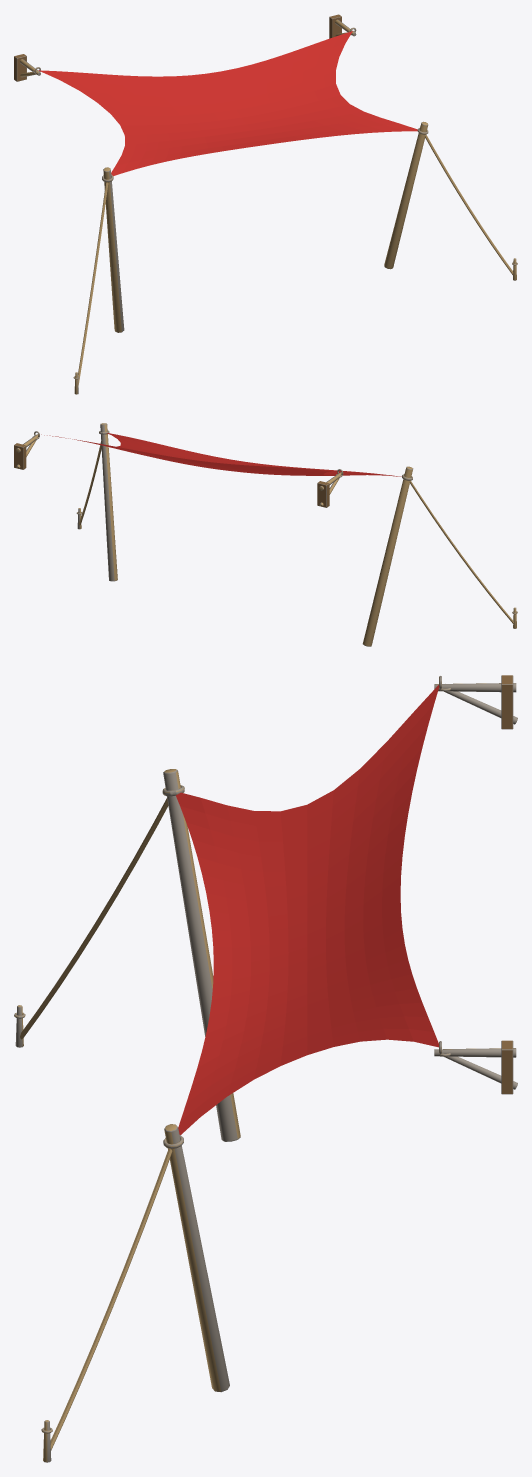
The model's file is nomad_sail_wall_strip.fbx.
3 renders of one model, top to bottom at view 1: azimuth 30°, elevation 25°; view 2: azimuth 150°, elevation 25°; view 3: azimuth 270°, elevation 25°, orthographic. The views are drawn at different scales.
Visible parts, largest first — view 1: S11_Canopy, S11_Mast1_SailRig_MastStub, S11_Mast_SailRig_MastStub, S11_Guy1, S11_Guy, S11_WallFix_SailRig_WallBracket; view 2: S11_Canopy, S11_Mast1_SailRig_MastStub, S11_Mast_SailRig_MastStub, S11_Guy1, S11_WallFix_SailRig_WallBracket, S11_WallFix1_SailRig_WallBracket; view 3: S11_Canopy, S11_Mast1_SailRig_MastStub, S11_Mast_SailRig_MastStub, S11_WallFix1_SailRig_WallBracket, S11_WallFix_SailRig_WallBracket, S11_Guy, S11_Guy1.
Part boxes in pixels (<box>): S11_Canopy: <box>38,31,417,175</box>; S11_Mast1_SailRig_MastStub: <box>102,167,124,332</box>; S11_Mast_SailRig_MastStub: <box>384,121,428,269</box>; S11_Guy1: <box>78,182,108,386</box>; S11_Guy: <box>425,134,513,274</box>; S11_WallFix_SailRig_WallBracket: <box>14,54,40,81</box>; S11_Canopy: <box>41,433,401,476</box>; S11_Mast1_SailRig_MastStub: <box>362,466,413,646</box>; S11_Mast_SailRig_MastStub: <box>99,423,117,581</box>; S11_Guy1: <box>410,480,513,623</box>; S11_WallFix_SailRig_WallBracket: <box>317,469,343,507</box>; S11_WallFix1_SailRig_WallBracket: <box>14,431,39,469</box>; S11_Canopy: <box>176,685,439,1134</box>; S11_Mast1_SailRig_MastStub: <box>162,769,240,1141</box>; S11_Mast_SailRig_MastStub: <box>163,1124,229,1392</box>; S11_WallFix1_SailRig_WallBracket: <box>434,1040,517,1094</box>; S11_WallFix_SailRig_WallBracket: <box>434,675,517,729</box>; S11_Guy: <box>50,1148,172,1450</box>; S11_Guy1: <box>20,798,168,1039</box>.
Bounding box in the file's own units: 629 × 307 × 319.
